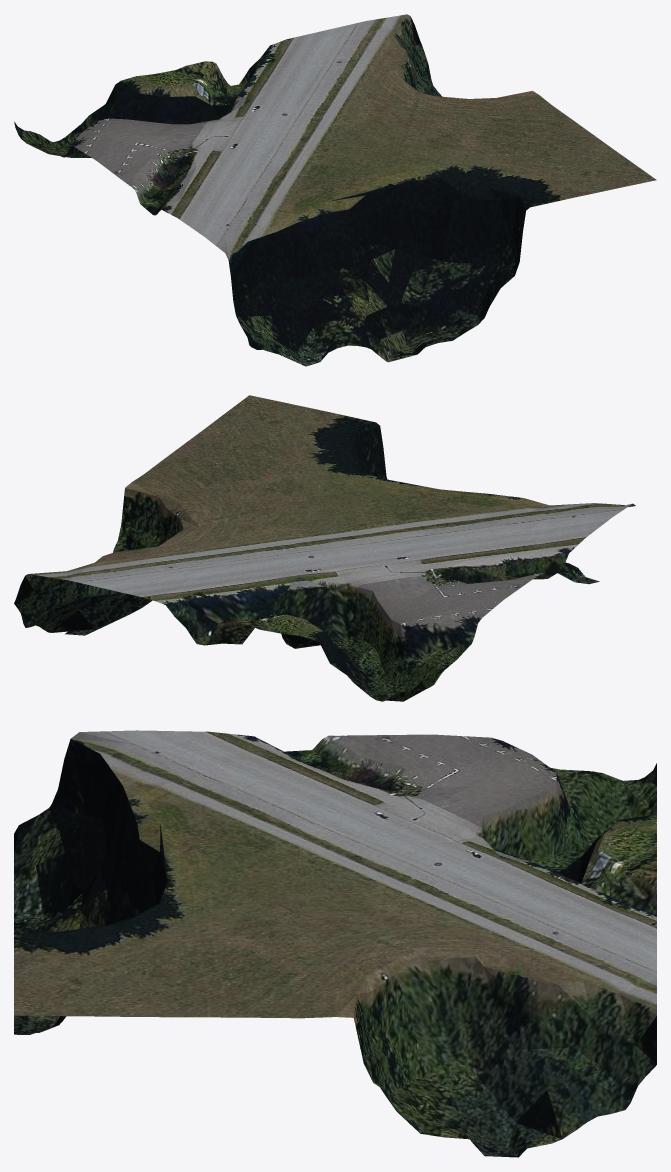
File: map_15_8185_13789.dae
The picture shows the model from 3 angles, top to bottom: view 1: azimuth 30°, elevation 25°; view 2: azimuth 150°, elevation 25°; view 3: azimuth 270°, elevation 25°; orthographic projection. The views are drawn at different scales.
Parts seen in each view (by area): view 1: Ter0; view 2: Ter0; view 3: Ter0.
Part boxes in pixels (bbox=[...]): Ter0: bbox=[14, 14, 656, 366]; Ter0: bbox=[14, 395, 635, 701]; Ter0: bbox=[14, 730, 656, 1157].
Size of the model in its own units: 63.87 by 63.88 by 19.3.
Materials: 3 (3 with a texture image).
